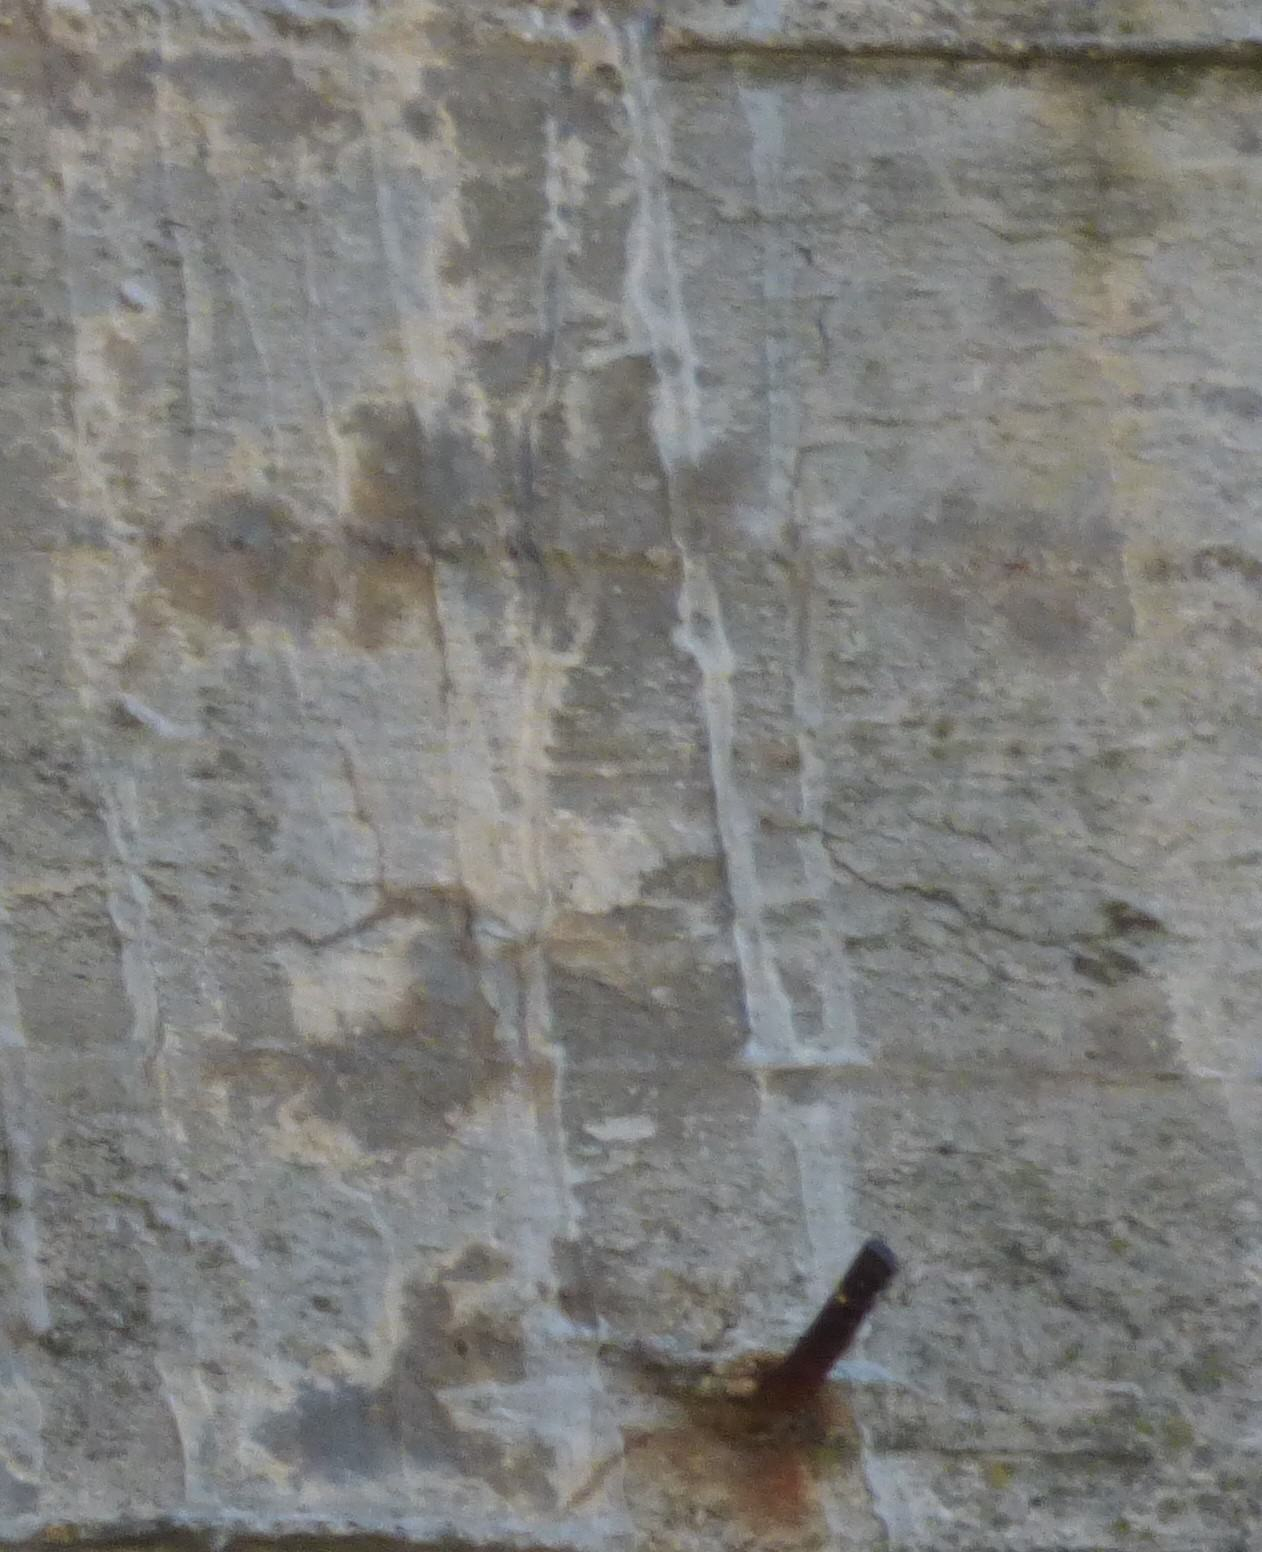Corrosion: (655, 1350, 856, 1538)
Exposed reinforcement: (762, 1239, 901, 1417)
